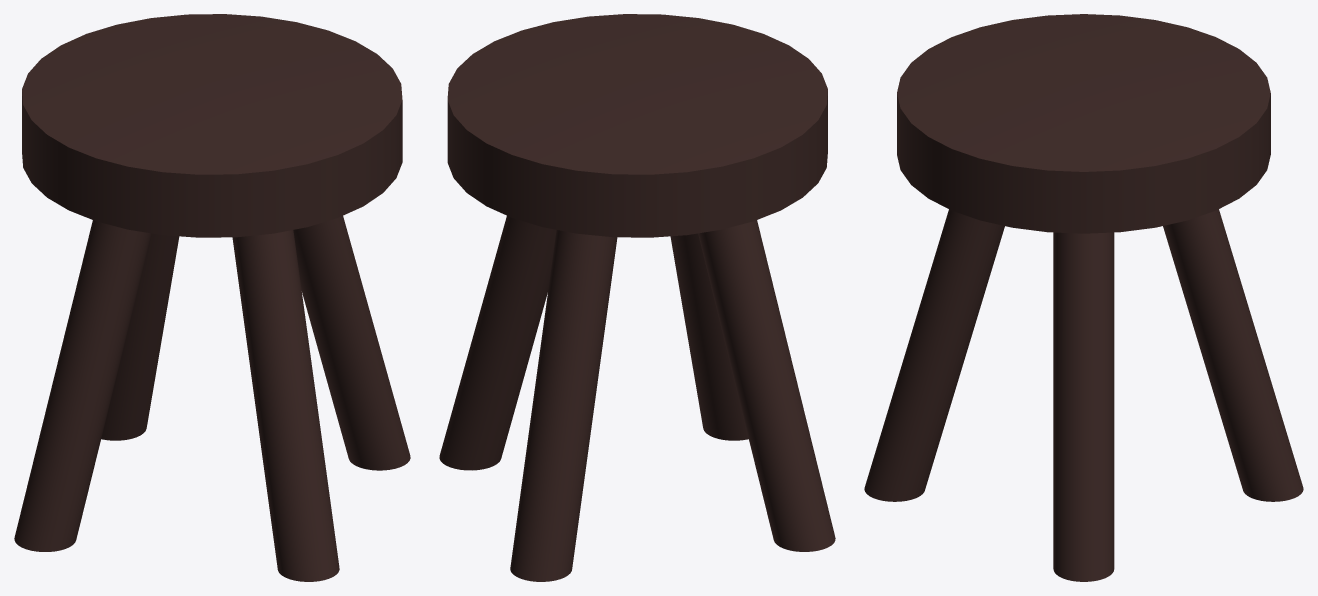
The model's file is Tabouret1_7.fbx.
3 views of the same model, side by side, from view 1: azimuth 30°, elevation 25°; view 2: azimuth 150°, elevation 25°; view 3: azimuth 270°, elevation 25° (orthographic).
Visible parts, largest first — view 1: pCylinder1599, pCylinder1632; view 2: pCylinder1599, pCylinder1632; view 3: pCylinder1599, pCylinder1632.
Boxes of the visible parts, x1,y1,x2,y2 form: pCylinder1599: (22, 14, 402, 237); pCylinder1632: (14, 216, 410, 581); pCylinder1599: (447, 14, 827, 237); pCylinder1632: (439, 216, 835, 581); pCylinder1599: (897, 14, 1270, 233); pCylinder1632: (864, 209, 1303, 581).
Size of the model in its own units: 41.39 by 42.19 by 41.38.
